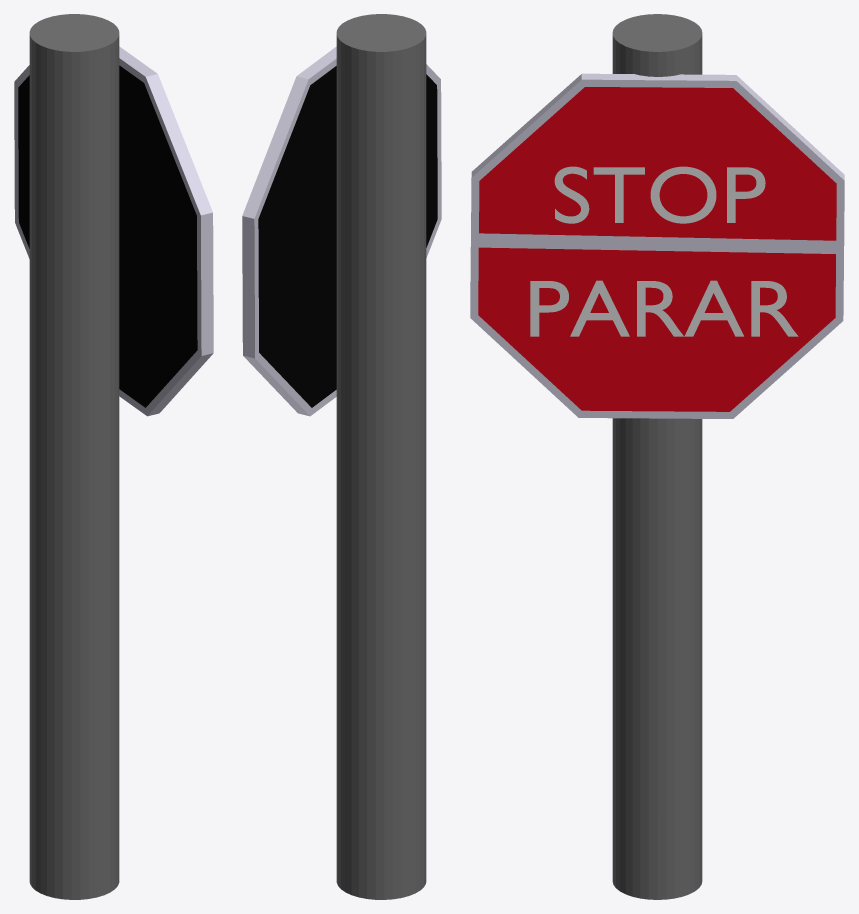
File: stop_sign_billingual(taller).fbx
The picture shows the model from 3 angles, left to right: view 1: azimuth 30°, elevation 25°; view 2: azimuth 150°, elevation 25°; view 3: azimuth 270°, elevation 25°; orthographic projection.
Parts seen in each view (by area): view 1: Cylinder, Circle; view 2: Cylinder, Circle; view 3: Circle, Cylinder, Text.001, Text.
Boxes of the visible parts, x1,y1,x2,y2 form: Cylinder: (29, 14, 119, 899); Circle: (14, 46, 213, 416); Cylinder: (336, 14, 426, 899); Circle: (242, 46, 441, 416); Circle: (470, 73, 844, 418); Cylinder: (612, 14, 702, 899); Text.001: (530, 280, 798, 336); Text: (554, 166, 765, 223).
Bounding box in the file's own units: 2.22 × 20.8 × 8.33.
